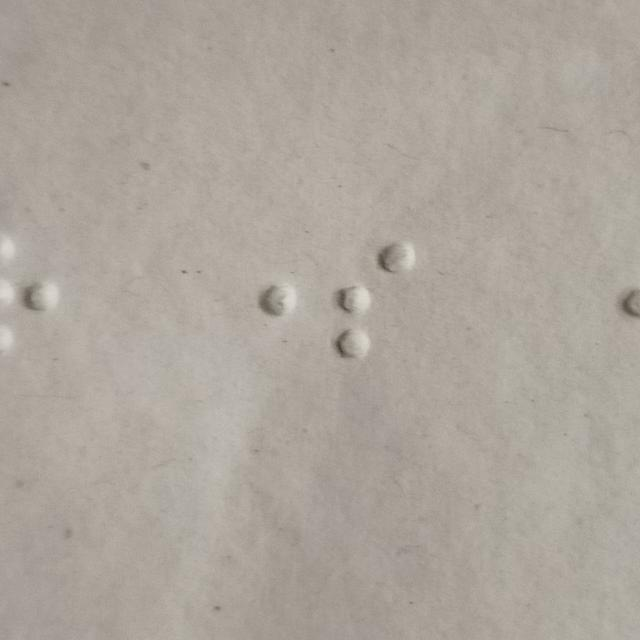dot_5: (219, 242, 297, 362)
two_cell_alphabet_subalit: (337, 243, 415, 363)
